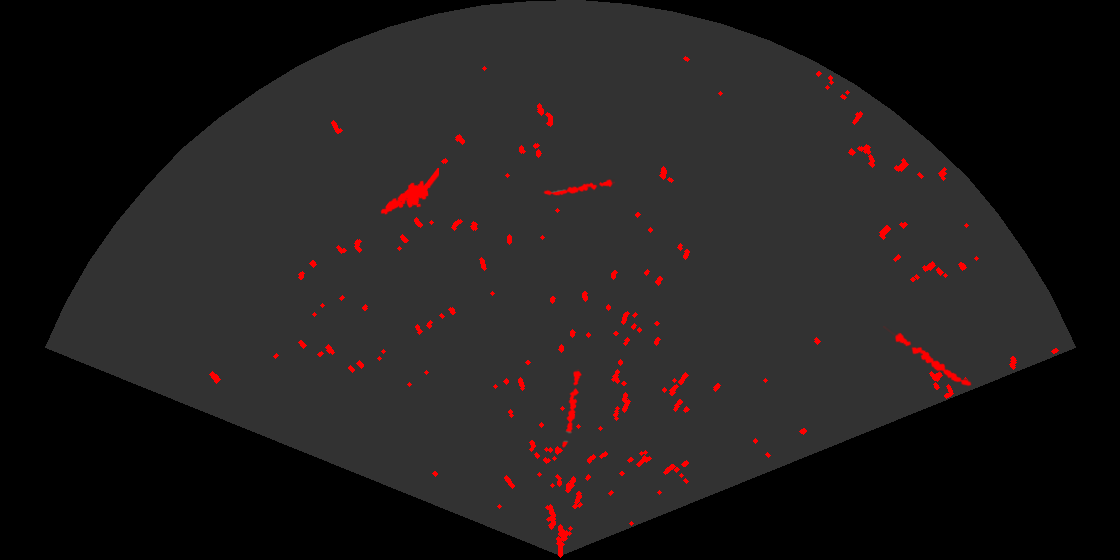chain: (883, 326, 973, 388), (560, 369, 583, 450), (541, 178, 615, 197)
frogman: (379, 168, 439, 216)
